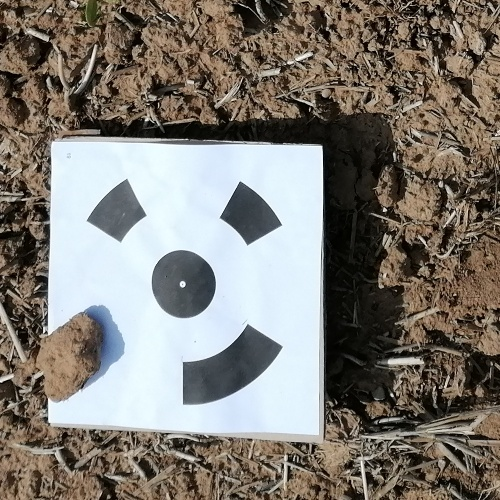beet: (78, 0, 97, 31)
